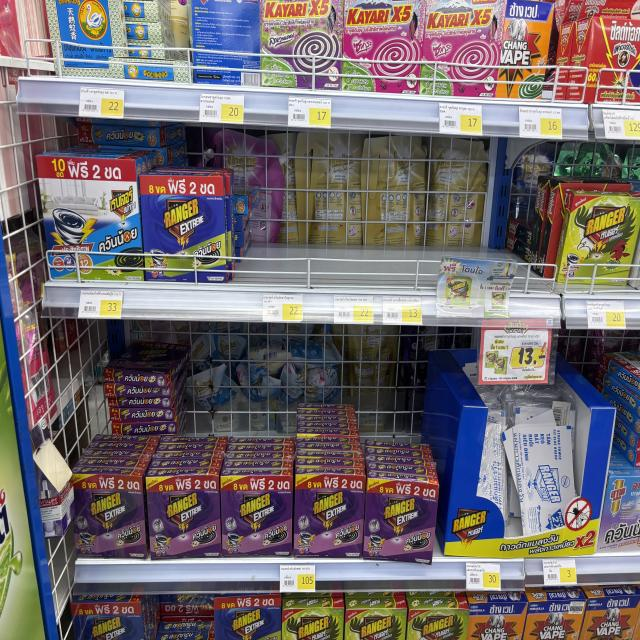empty_shelf: (234, 159, 553, 293)
